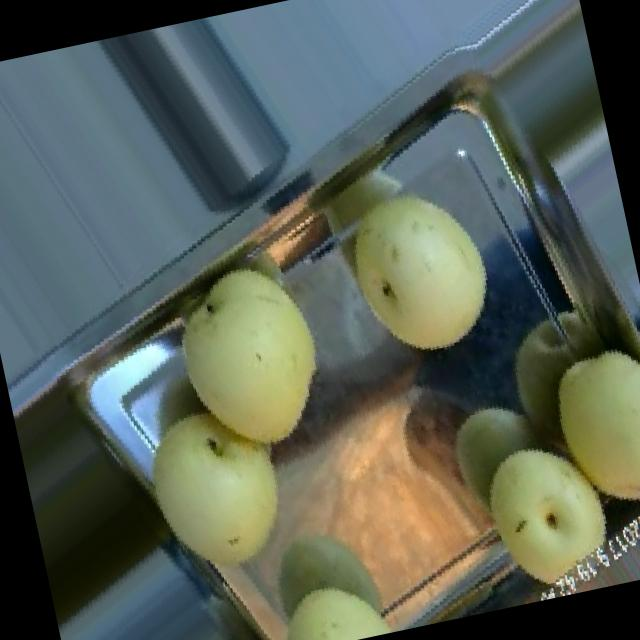Fruit: (199, 353, 537, 640), (107, 366, 346, 640), (136, 232, 360, 490), (316, 160, 516, 383), (451, 411, 640, 611), (513, 316, 640, 558)
